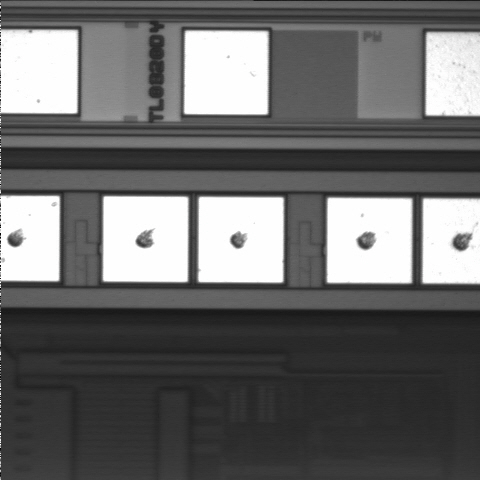pad: (103, 196, 188, 282), (198, 197, 283, 282), (327, 198, 412, 283), (184, 31, 268, 114)
